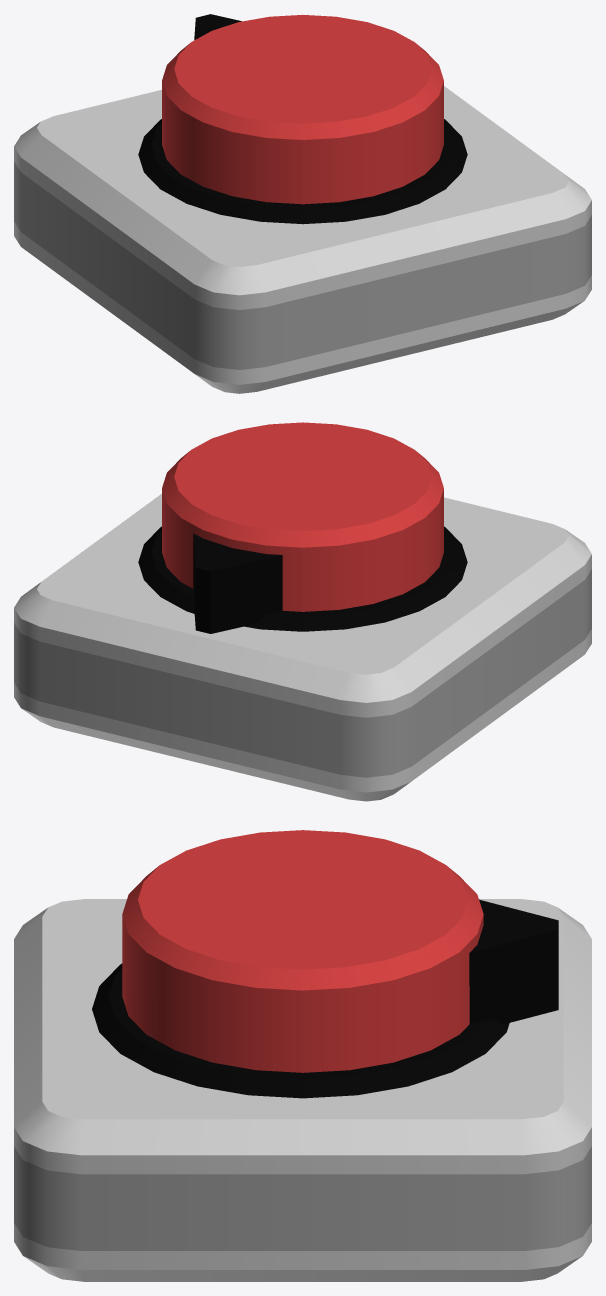
3 views of the same model, one above another, from view 1: azimuth 30°, elevation 25°; view 2: azimuth 150°, elevation 25°; view 3: azimuth 270°, elevation 25° (orthographic). The views are drawn at different scales.
Visible parts, largest first — view 1: LS_b_002, LS_b_002_button, LS_b_002_th; view 2: LS_b_002, LS_b_002_button, LS_b_002_th; view 3: LS_b_002, LS_b_002_button, LS_b_002_th.
Part boxes in pixels (x1,y1,x2,y2): LS_b_002: [14, 86, 591, 393]; LS_b_002_button: [162, 15, 443, 204]; LS_b_002_th: [194, 14, 241, 40]; LS_b_002: [14, 494, 591, 801]; LS_b_002_button: [162, 422, 443, 611]; LS_b_002_th: [193, 533, 282, 633]; LS_b_002: [14, 899, 591, 1281]; LS_b_002_button: [122, 830, 483, 1072]; LS_b_002_th: [469, 899, 558, 1024].
Bounding box in the file's own units: 200 × 104 × 200.
